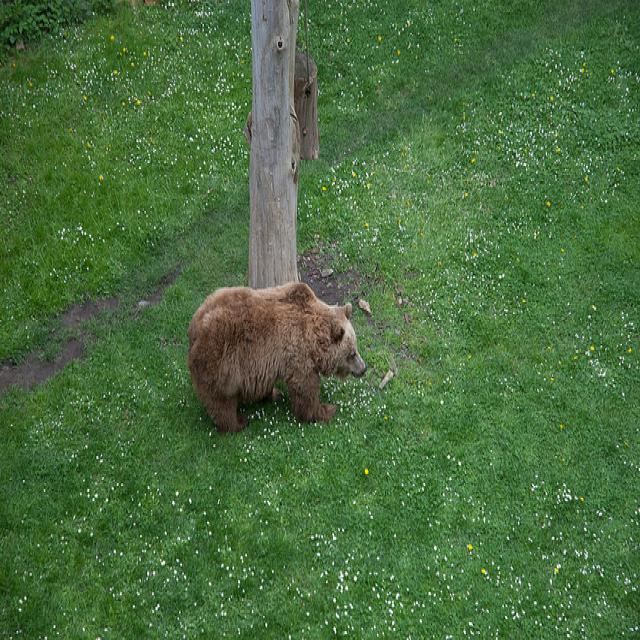Bear: (182, 283, 366, 421)
